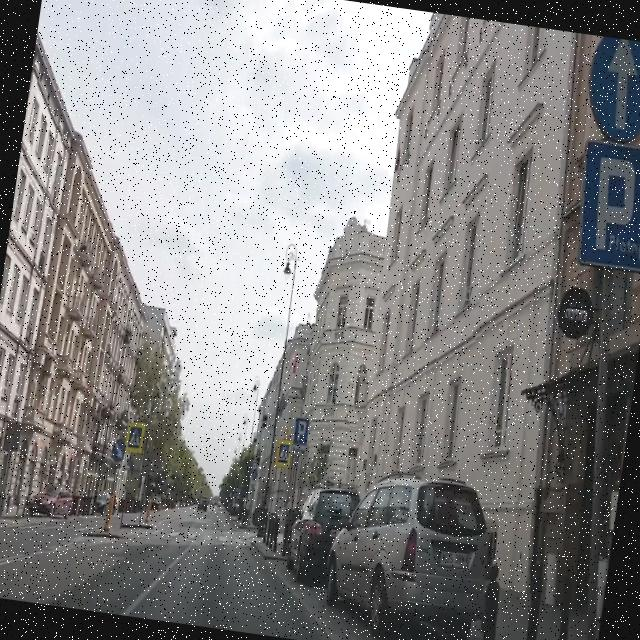Droga z pierwszenstwem: (281, 423, 292, 440)
Przejscie dla pieszych: (128, 426, 144, 450), (278, 442, 292, 465)
